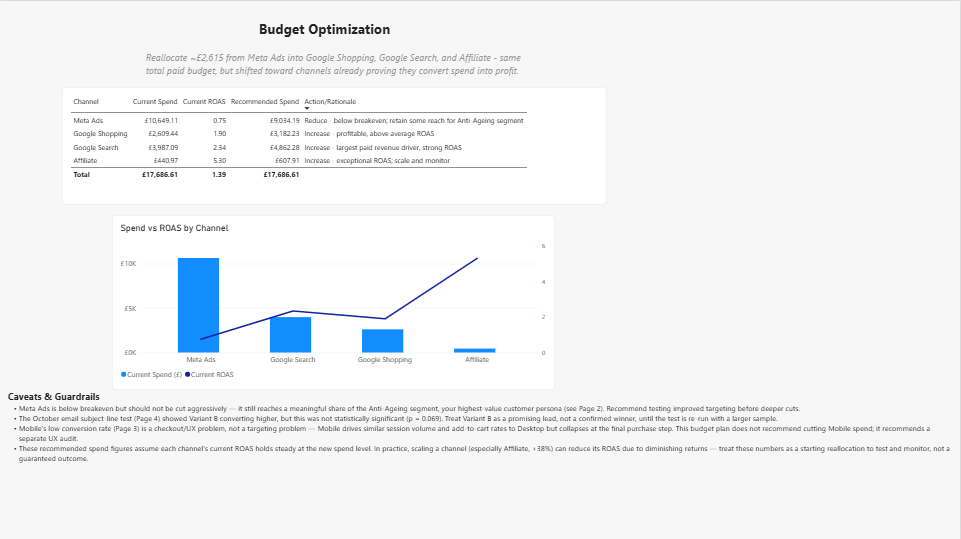

The page's visual inventory and layout, read from the dashboard file:
{"tool":"powerbi","page":{"name":"Budget Optimization","canvas":[1920,1080],"ordinal":4},"visuals":[{"type":"textbox","box":[437.1,40,303.8,100],"z":0},{"type":"textbox","box":[211.4,102.9,757.1,211.4],"z":1},{"type":"tableEx","fields":{"Values":["Budget Plan.Channel","Sum(Budget Plan.Current Spend)","_Measures.Blended Current ROAS","Sum(Budget Plan.Recommended Spend)","Budget Plan.Action/Rationale"]},"box":[46.4,180,1089.1,234.5],"z":2},{"type":"lineClusteredColumnComboChart","title":"Spend vs ROAS by Channel","fields":{"Category":["Budget Plan.Channel"],"Y":["Sum(Budget Plan.Current Spend)"],"Y2":["Sum(Budget Plan.Current ROAS)"]},"box":[228.3,428.3,885,350],"z":3},{"type":"textbox","box":[0,766,1920,314],"z":4}]}

Visuals, with their boxes in screenshot pixels (x1, y1, x2, y2), scaled from the page's 1920x1080 canvas onto the 961x539 screenshot:
textbox: bbox=[219, 20, 371, 70]
textbox: bbox=[106, 51, 485, 157]
tableEx - Budget Plan.Channel x Sum(Budget Plan.Current Spend): bbox=[23, 90, 568, 207]
"Spend vs ROAS by Channel" lineClusteredColumnComboChart: bbox=[114, 214, 557, 388]
textbox: bbox=[0, 382, 960, 538]
